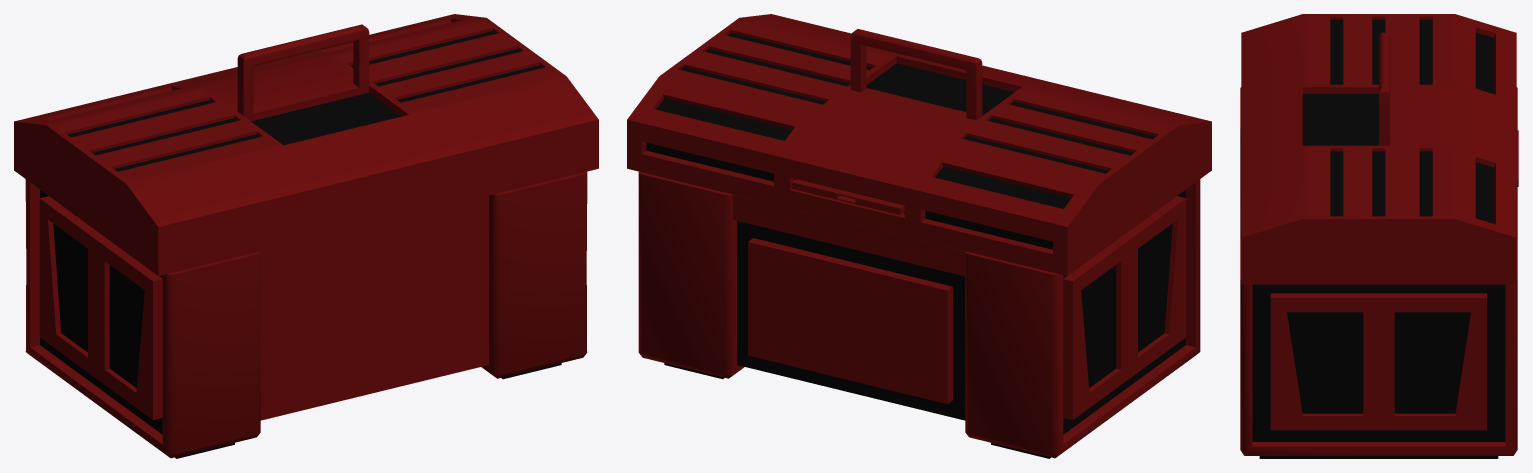
File: Toolbox.FBX
The picture shows the model from 3 angles, left to right: view 1: azimuth 30°, elevation 25°; view 2: azimuth 150°, elevation 25°; view 3: azimuth 270°, elevation 25°; orthographic projection. The views are drawn at different scales.
Parts seen in each view (by area): view 1: BoîteAOutils001; view 2: BoîteAOutils001; view 3: BoîteAOutils001.
Part boxes in pixels (<box>): BoîteAOutils001: <box>14,14,598,458</box>; BoîteAOutils001: <box>627,14,1211,458</box>; BoîteAOutils001: <box>1240,14,1518,458</box>.
Size of the model in its own units: 228 by 160 by 131.
